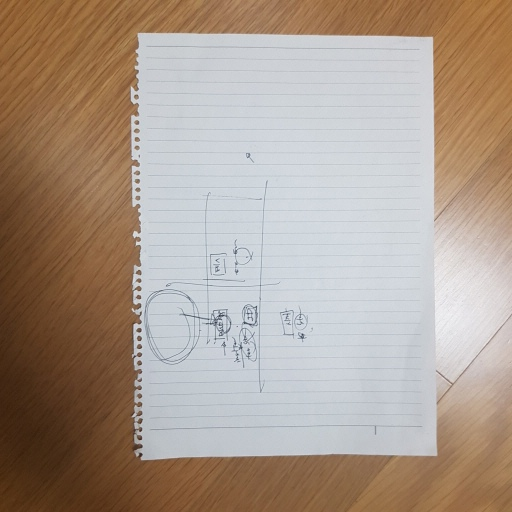Paper_2: (127, 21, 452, 474)
